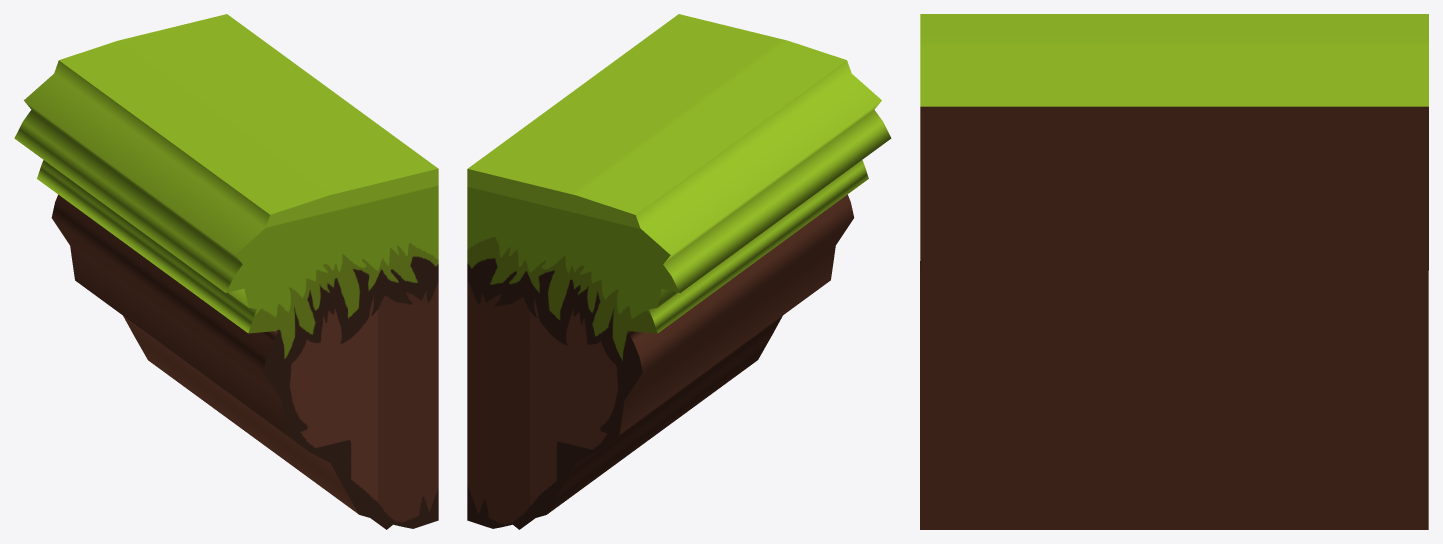
File: BlockLeftEdge.fbx
The picture shows the model from 3 angles, left to right: view 1: azimuth 30°, elevation 25°; view 2: azimuth 150°, elevation 25°; view 3: azimuth 270°, elevation 25°; orthographic projection. The views are drawn at different scales.
Visible parts, largest first — view 1: polySurface3; view 2: polySurface3; view 3: polySurface3.
Boxes of the visible parts, x1,y1,x2,y2 form: polySurface3: [14, 14, 438, 529]; polySurface3: [467, 14, 891, 529]; polySurface3: [920, 14, 1428, 529].
Size of the model in its own units: 1.85 by 2.94 by 3.18.
